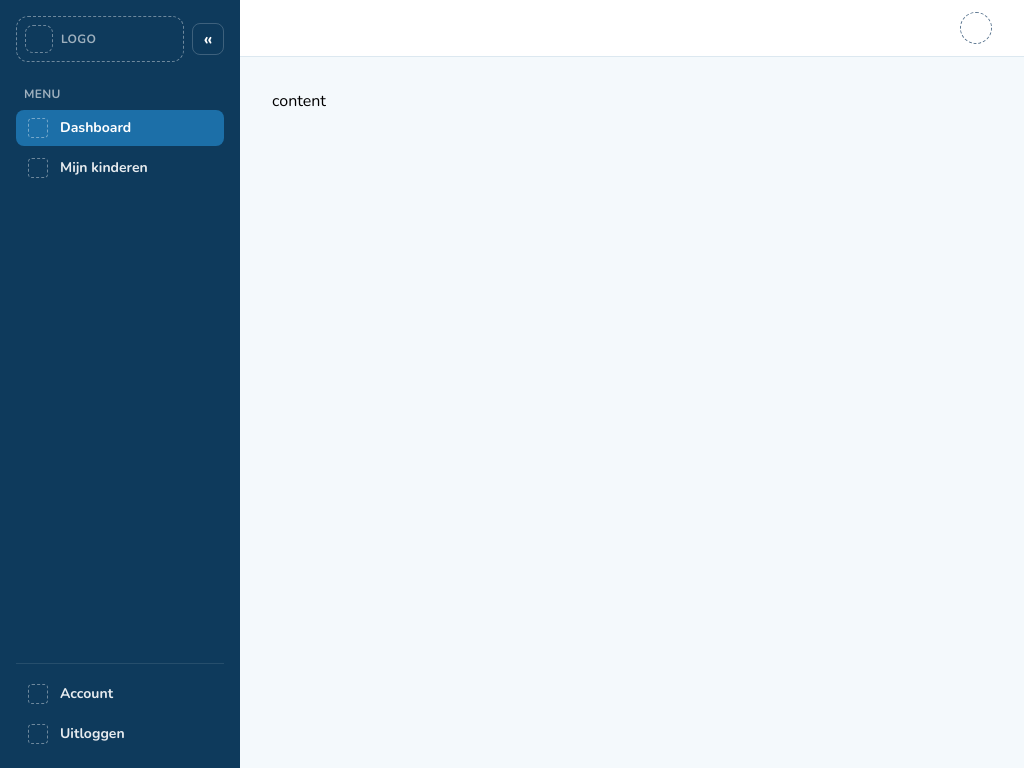
Test: AppShell › shows an expand icon and label once collapsed, so it's clear how to bring the sidebar back
Click the button named "Menu inklappen".
click(208, 39)  # box [192,23,224,55]
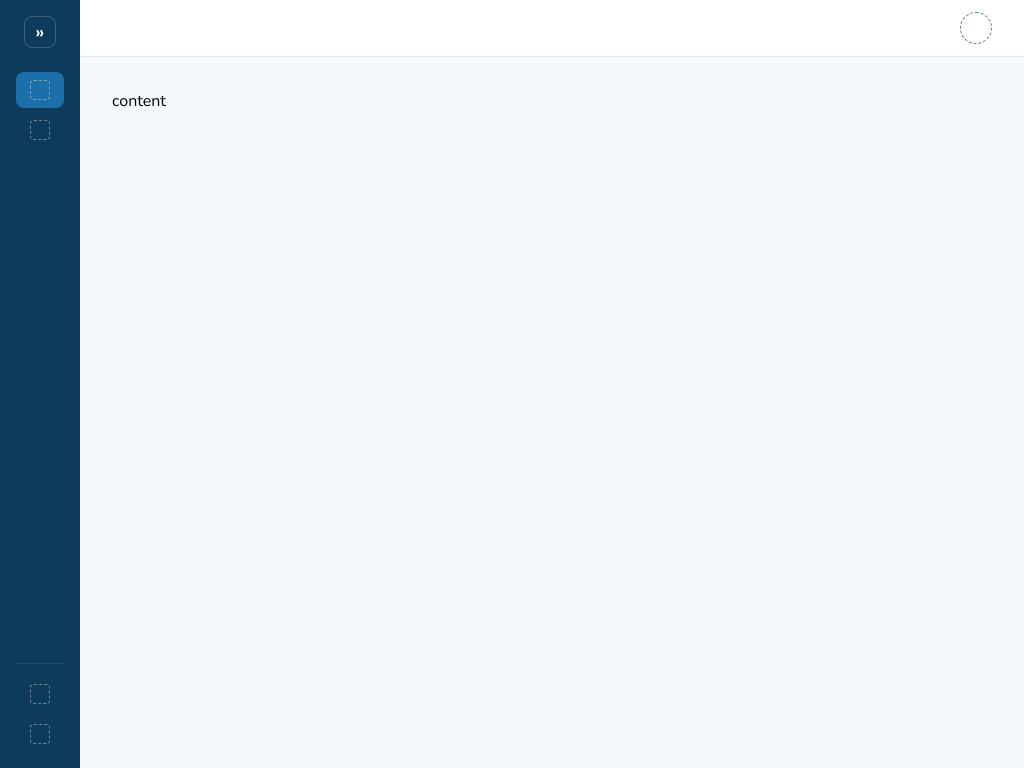
Result: the button named "Menu uitklappen" reads "»" at [24,16,56,48]
